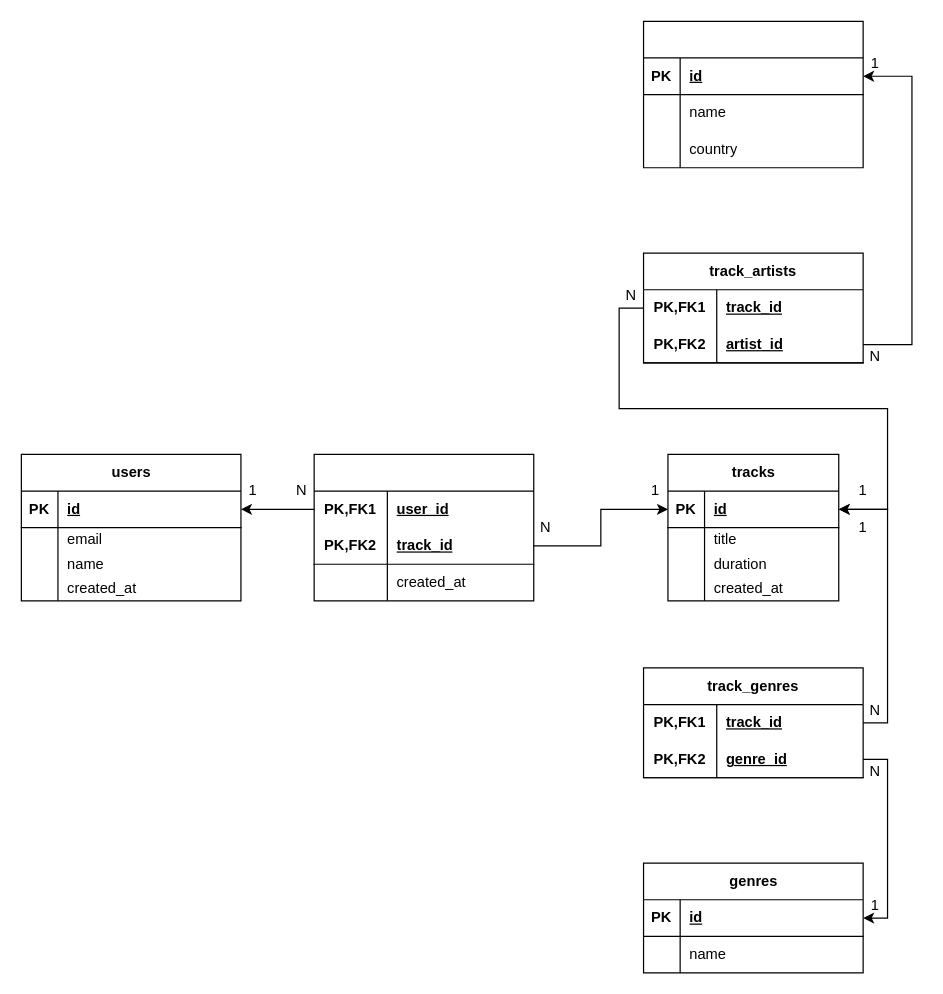
Some shapes in this 943 by 994 pixel diagram are drawn without their labels. The box of each missing label's shape, as (x1, y1, x2, y2) in pixels:
artists: (642, 20, 863, 168)
favourites: (313, 453, 534, 601)
